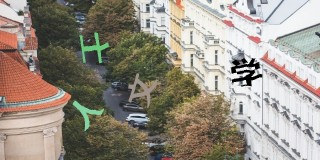人: (71, 97, 106, 131)
士: (76, 32, 110, 64)
学: (228, 56, 263, 88)
文: (127, 72, 158, 109)
